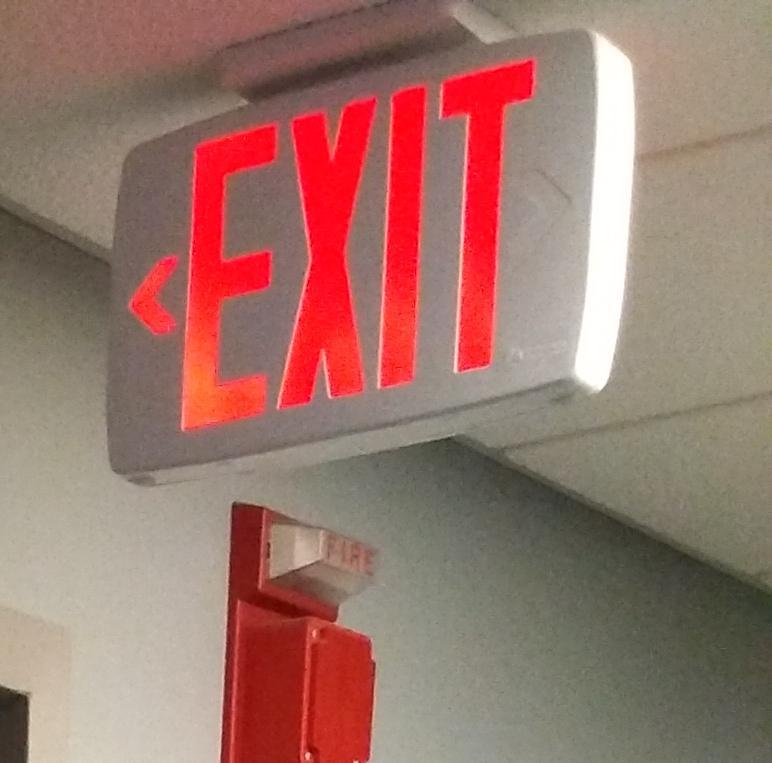sign: (114, 29, 637, 489)
